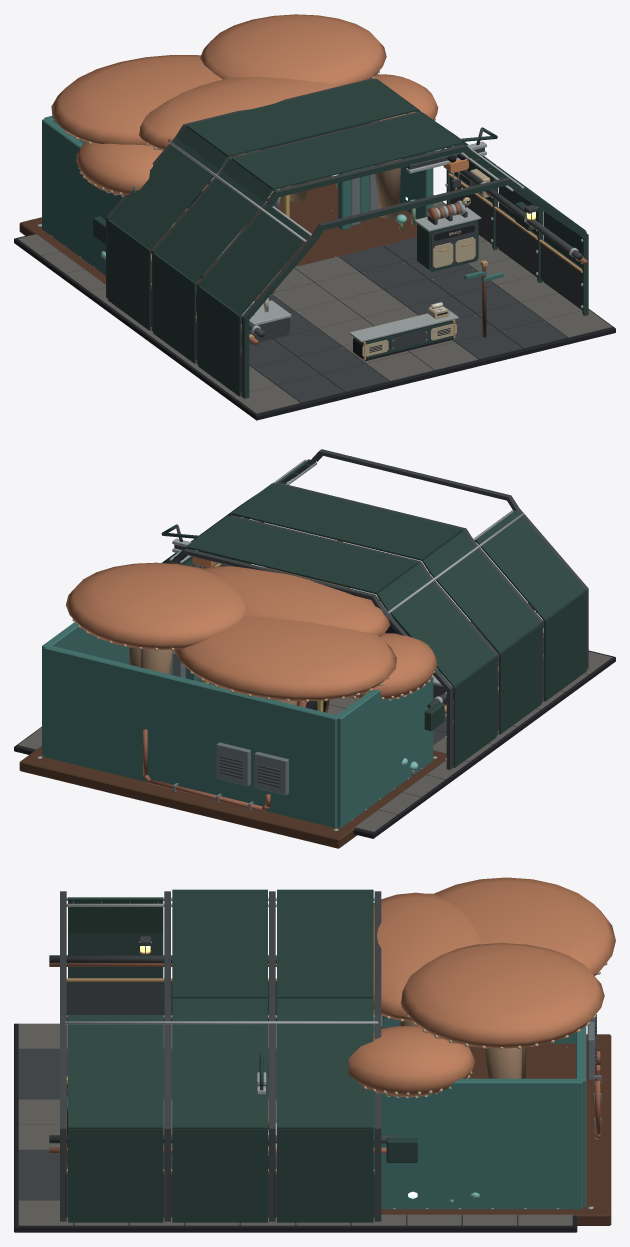
File: toxibloom-garage.glb
3 renders of one model, top to bottom at view 1: azimuth 30°, elevation 25°; view 2: azimuth 150°, elevation 25°; view 3: azimuth 270°, elevation 25°, orthographic. The views are drawn at different scales.
Visible parts, largest first — view 1: toxibloom-garage; view 2: toxibloom-garage; view 3: toxibloom-garage.
Boxes of the visible parts, x1=… form: toxibloom-garage: x1=14, y1=14, x2=615, y2=420; toxibloom-garage: x1=14, y1=449, x2=615, y2=848; toxibloom-garage: x1=14, y1=877, x2=615, y2=1232.
Bounding box in the file's own units: 17.08 × 7.94 × 21.32.
26 materials, 22 textured.
